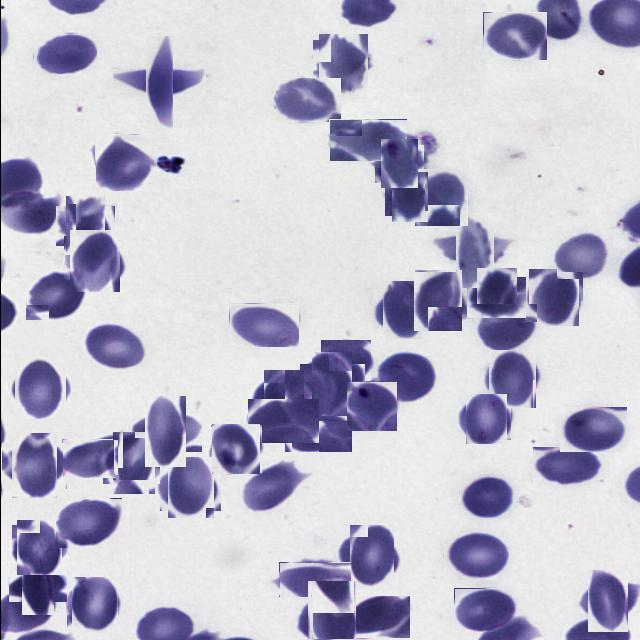red blood cell: (128, 53, 189, 114), (94, 134, 156, 191), (54, 498, 121, 548), (443, 529, 508, 580), (445, 222, 503, 279), (328, 119, 406, 161), (11, 359, 68, 416), (66, 233, 123, 289), (137, 403, 193, 460), (301, 586, 360, 640), (334, 596, 409, 638), (314, 37, 370, 93), (413, 170, 469, 226), (6, 438, 62, 494), (247, 399, 318, 443), (410, 272, 465, 328), (228, 304, 298, 348), (482, 12, 546, 60), (343, 530, 398, 585), (559, 407, 626, 452), (25, 270, 85, 320), (485, 350, 539, 404), (526, 270, 580, 324), (162, 460, 216, 514), (275, 78, 340, 122), (240, 464, 302, 510), (377, 354, 436, 402), (453, 588, 517, 632), (475, 304, 536, 350), (532, 447, 603, 486), (284, 411, 351, 452), (108, 437, 160, 489), (306, 358, 358, 410), (68, 580, 120, 632), (582, 574, 633, 626), (32, 34, 96, 74), (84, 325, 142, 369), (345, 381, 396, 431), (278, 562, 350, 597), (14, 522, 64, 572), (470, 272, 520, 322), (210, 424, 260, 474), (258, 374, 308, 423), (59, 202, 110, 250), (377, 285, 426, 334), (460, 474, 512, 518), (556, 233, 604, 279), (61, 439, 117, 478), (320, 340, 370, 383), (462, 396, 508, 442), (15, 564, 60, 608), (376, 142, 421, 186), (387, 176, 431, 220)
